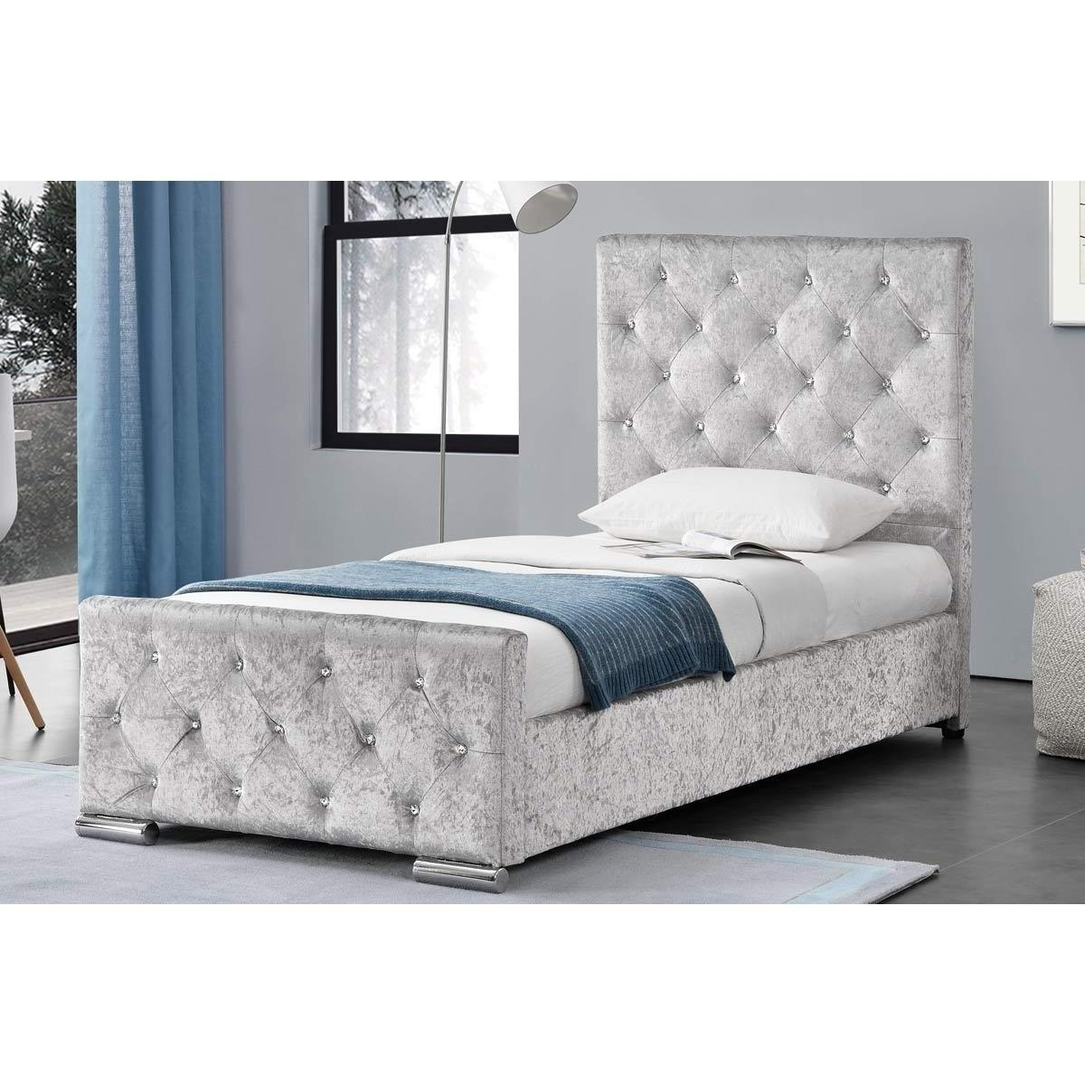bed: (62, 200, 994, 890)
chair: (0, 333, 47, 751)
light: (335, 170, 581, 542)
table: (991, 553, 1085, 787)
